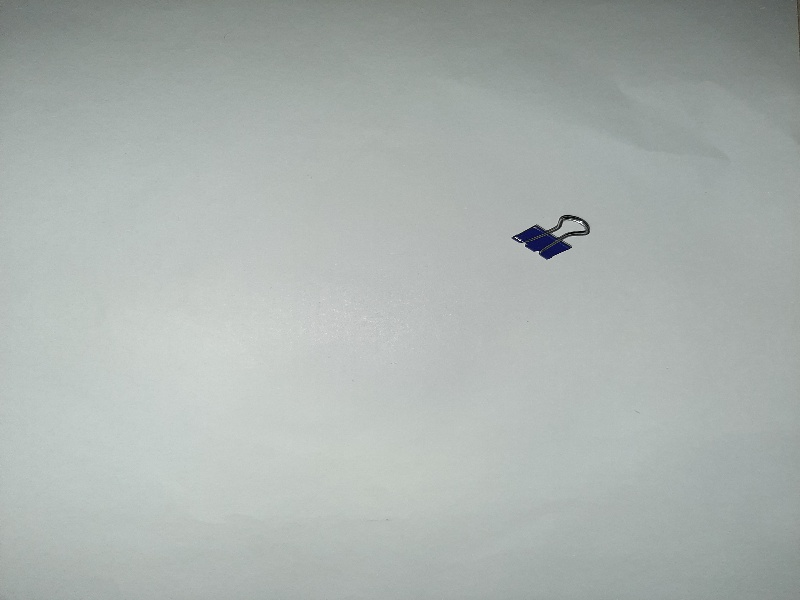Small Paperclip: (511, 206, 595, 266)
